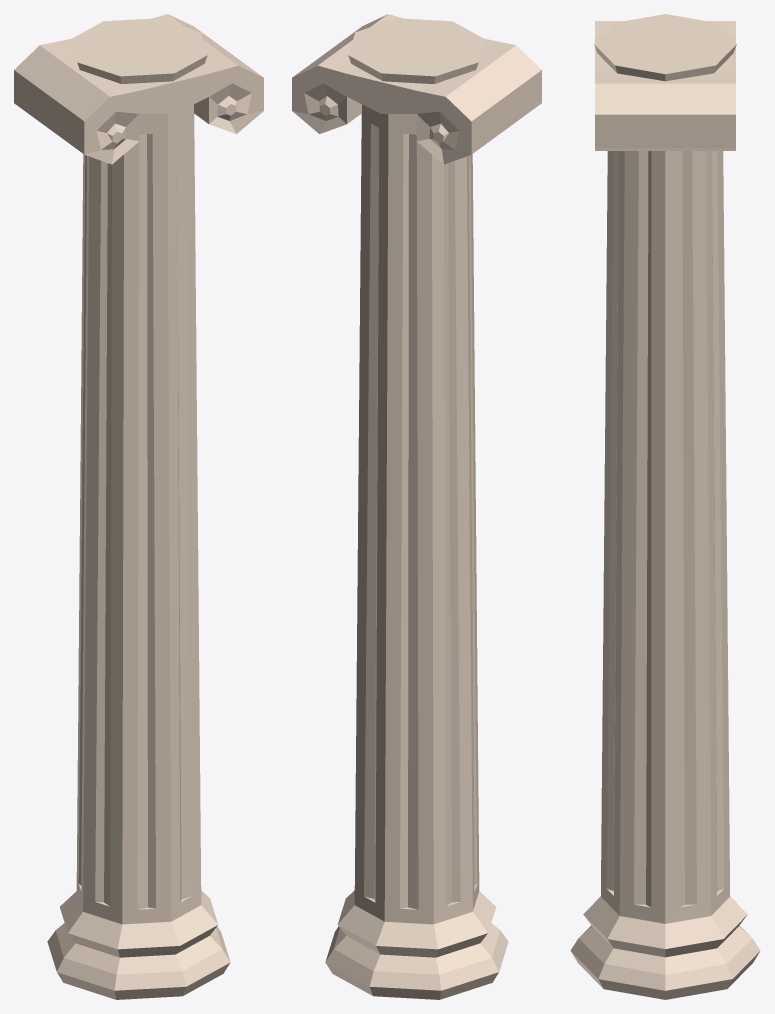
File: empire-pillar-ionic-big-empire.glb
The picture shows the model from 3 angles, left to right: view 1: azimuth 30°, elevation 25°; view 2: azimuth 150°, elevation 25°; view 3: azimuth 270°, elevation 25°; orthographic projection.
Parts seen in each view (by area): view 1: SM_Pillar_Ionic_Big_Empire; view 2: SM_Pillar_Ionic_Big_Empire; view 3: SM_Pillar_Ionic_Big_Empire.
Part boxes in pixels (x1,y1,x2,y2): SM_Pillar_Ionic_Big_Empire: [14, 14, 263, 999]; SM_Pillar_Ionic_Big_Empire: [292, 14, 541, 999]; SM_Pillar_Ionic_Big_Empire: [570, 14, 760, 999].
Size of the model in its own units: 2.05 by 10.01 by 1.88.
